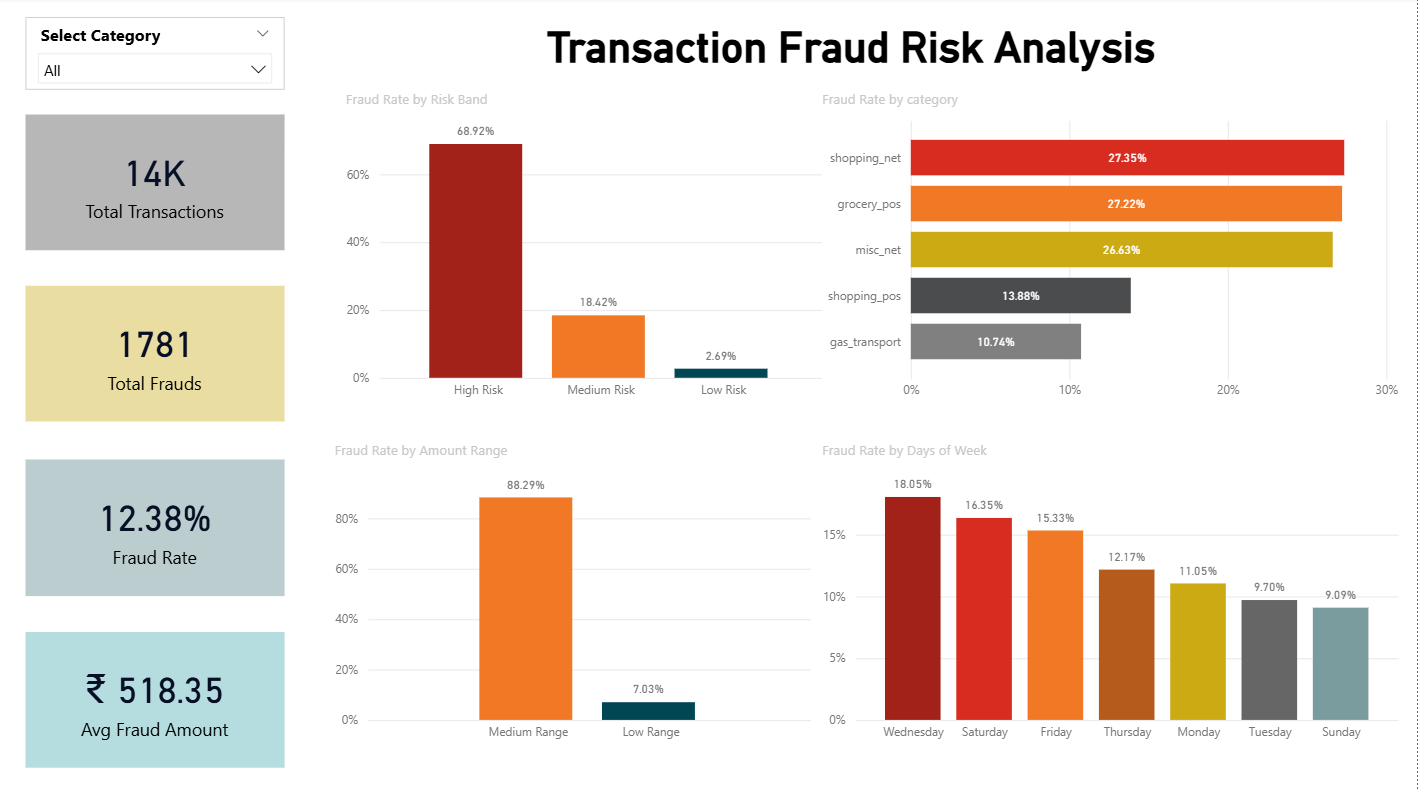

The dashboard page shown, as its layout file describes it:
{"tool":"powerbi","page":{"name":"Page 1","canvas":[1280,720],"ordinal":0},"visuals":[{"type":"card","fields":{"Values":["Fraud Data Analysis.Total Transactions"]},"box":[24.7,105.7,233.3,122.1],"z":0},{"type":"card","fields":{"Values":["Fraud Data Analysis.Avg Fraud Amount"]},"box":[24.7,572.2,233.3,122.1],"z":1000},{"type":"card","fields":{"Values":["Fraud Data Analysis.Fraud Rate"]},"box":[24.7,417.2,233.3,123.5],"z":2000},{"type":"card","fields":{"Values":["Fraud Data Analysis.Total Frauds"]},"box":[24.7,260.7,233.3,122.1],"z":3000},{"type":"columnChart","title":"Fraud Rate by Risk Band","fields":{"Category":["Fraud Data Analysis.risk_band"],"Series":["Fraud Data Analysis.risk_band"],"Y":["Fraud Data Analysis.Fraud Rate"]},"box":[308.7,83.7,439.1,288.2],"z":4000},{"type":"columnChart","title":"Fraud Rate by Amount Range","fields":{"Category":["Fraud Data Analysis.amt_range"],"Y":["Fraud Data Analysis.Fraud Rate"],"Series":["Fraud Data Analysis.amt_range"]},"box":[299.1,400.7,439.1,279.9],"z":5000},{"type":"barChart","title":"Fraud Rate by category ","fields":{"Category":["Fraud Data Analysis.category"],"Y":["Fraud Data Analysis.Fraud Rate"],"Series":["Fraud Data Analysis.category"]},"box":[738.3,83.7,529.7,288.2],"z":6000},{"type":"columnChart","title":"Fraud Rate by Days of Week","fields":{"Series":["Fraud Data Analysis.weekday"],"Y":["Fraud Data Analysis.Fraud Rate"],"Category":["Fraud Data Analysis.weekday"]},"box":[738.3,400.7,529.7,279.9],"z":7000},{"type":"textbox","box":[440.5,17.8,657.3,61.7],"z":8000},{"type":"slicer","fields":{"Values":["Fraud Data Analysis.category"]},"box":[24.7,17.8,233.3,65.9],"z":9000}]}

Visuals, with their boxes in screenshot pixels (x1, y1, x2, y2), scaled from the page's 1280x720 canvas onto the 1418x791 screenshot:
card - Fraud Data Analysis.Total Transactions: (27, 116, 286, 250)
card - Fraud Data Analysis.Avg Fraud Amount: (27, 629, 286, 763)
card - Fraud Data Analysis.Fraud Rate: (27, 458, 286, 594)
card - Fraud Data Analysis.Total Frauds: (27, 286, 286, 421)
"Fraud Rate by Risk Band" columnChart: (342, 92, 828, 409)
"Fraud Rate by Amount Range" columnChart: (331, 440, 818, 748)
"Fraud Rate by category " barChart: (818, 92, 1405, 409)
"Fraud Rate by Days of Week" columnChart: (818, 440, 1405, 748)
textbox: (488, 20, 1216, 87)
slicer - Fraud Data Analysis.category: (27, 20, 286, 92)
